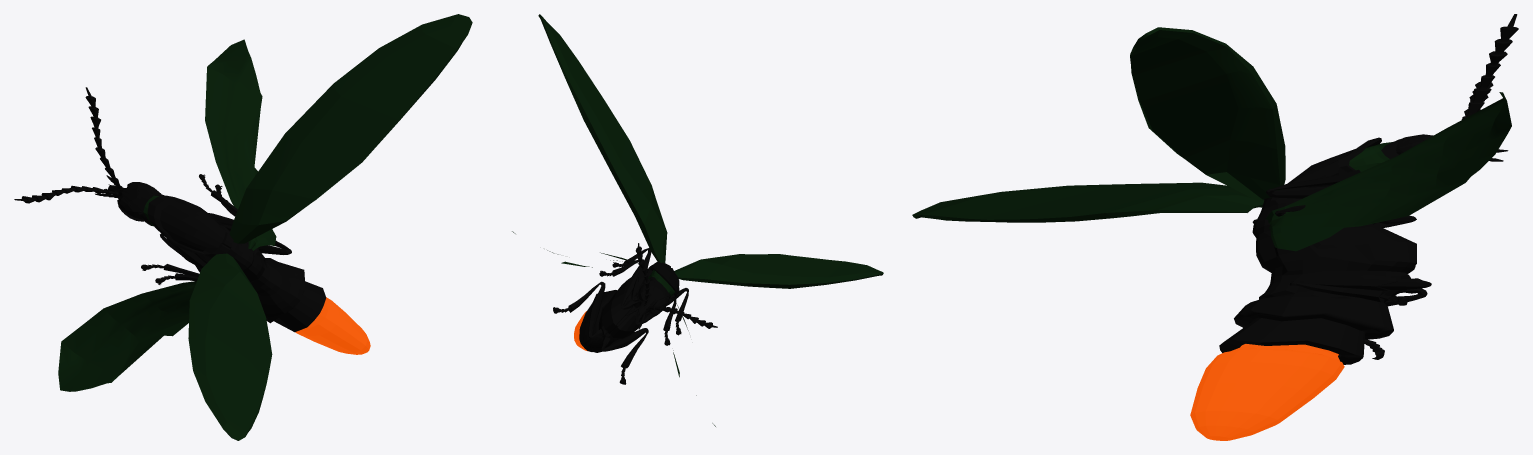
The model's file is Firefly_2-transformed.glb.
The picture shows the model from 3 angles, left to right: view 1: azimuth 30°, elevation 25°; view 2: azimuth 150°, elevation 25°; view 3: azimuth 270°, elevation 25°; orthographic projection. The views are drawn at different scales.
Parts seen in each view (by area): view 1: firefly.004, firefly, firefly.002, firefly.003, firefly.005; view 2: firefly, firefly.004, firefly.002; view 3: firefly, firefly.004, firefly.005, firefly.002.
Boxes of the visible parts, bbox=[...] form: firefly.004: bbox=[229, 14, 472, 243]; firefly: bbox=[14, 87, 370, 354]; firefly.002: bbox=[188, 253, 272, 440]; firefly.003: bbox=[58, 281, 196, 391]; firefly.005: bbox=[205, 39, 276, 250]; firefly: bbox=[553, 243, 717, 384]; firefly.004: bbox=[538, 14, 667, 262]; firefly.002: bbox=[674, 254, 883, 288]; firefly: bbox=[1190, 14, 1518, 440]; firefly.004: bbox=[1130, 27, 1285, 201]; firefly.005: bbox=[1265, 92, 1511, 251]; firefly.002: bbox=[912, 182, 1264, 222].
Size of the model in its own units: 0.0977 by 0.1014 by 0.1121.
